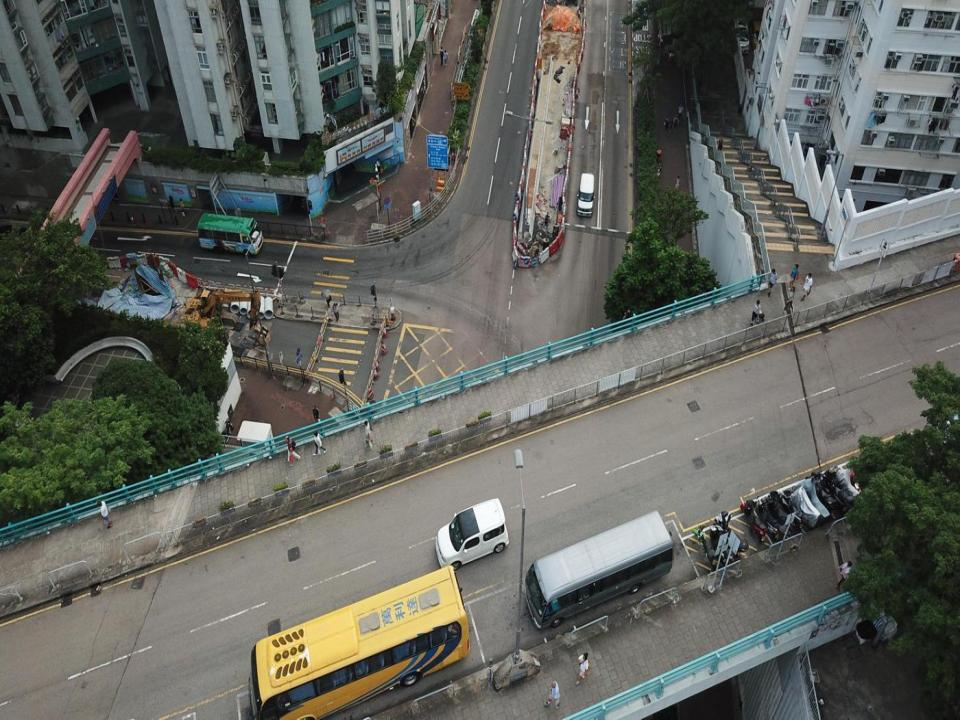bus: (252, 564, 471, 719), (526, 508, 673, 630), (197, 212, 263, 256)
car: (435, 496, 509, 569)
van: (577, 171, 595, 218), (734, 13, 750, 56)
